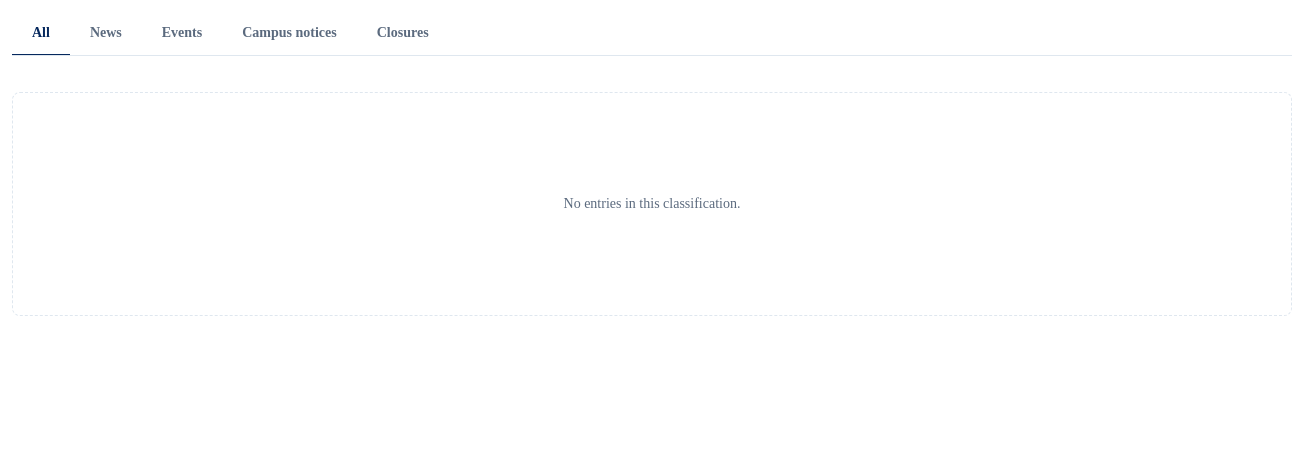
News & Events Tabs › retains independent loaded progress for each tab
Click the tab "News". click: {"x": 106, "y": 34}
box: [70,12,142,56]
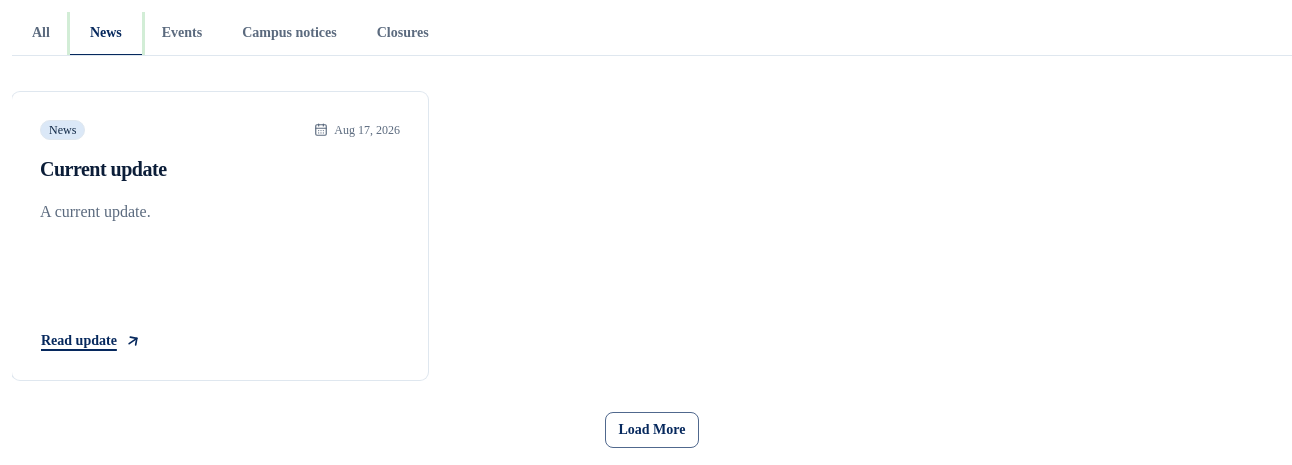
Click the button "Load More". click: {"x": 652, "y": 430}
box: [606,412,698,448]
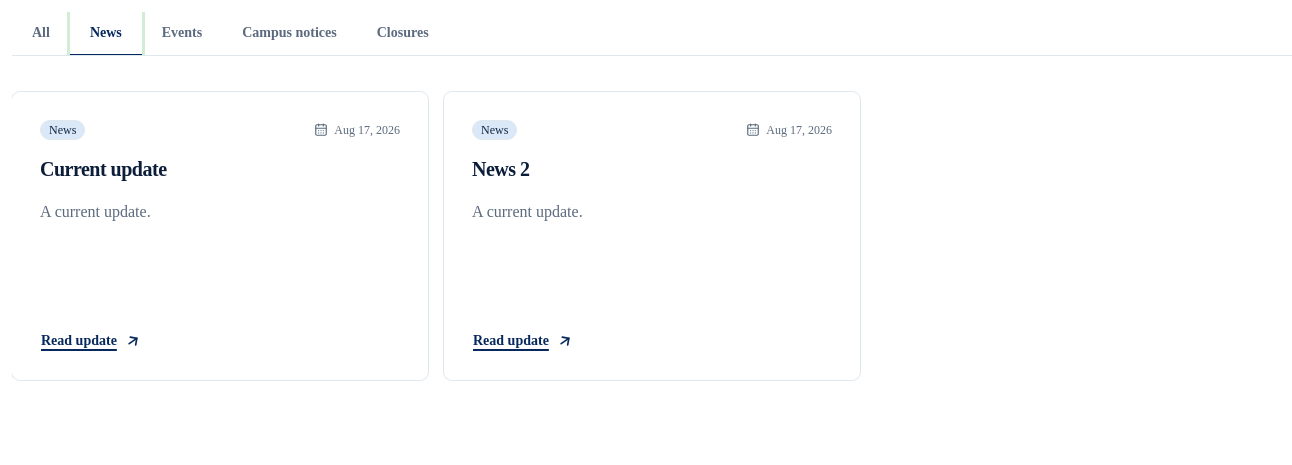
expect the heading "News 2" is shown: met, box [472,158,530,180]
Click the tab "Events". click: {"x": 182, "y": 34}
box: [142,12,222,56]
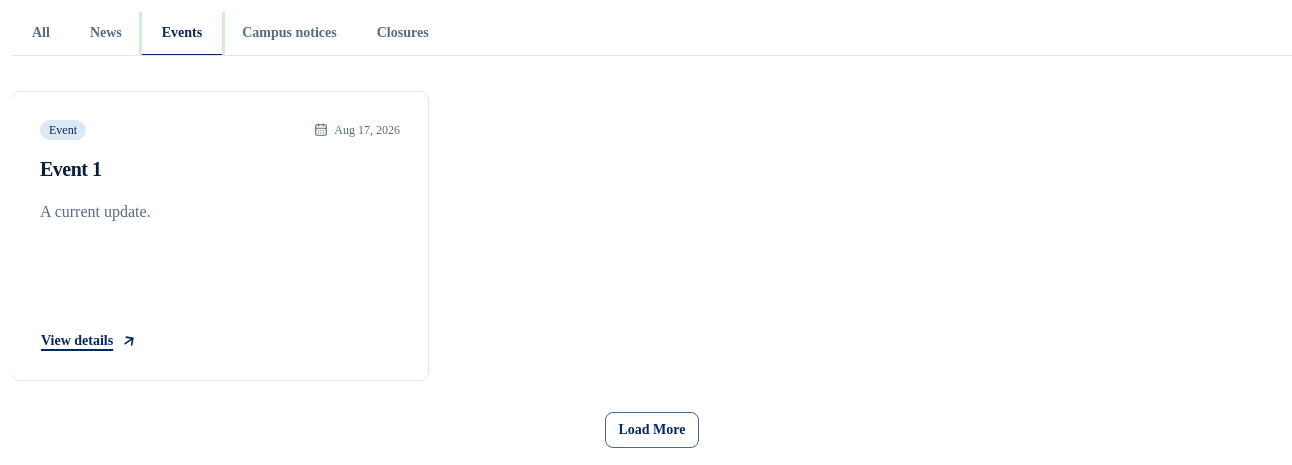
Click the button "Load More". click: {"x": 652, "y": 430}
box: [606,412,698,448]
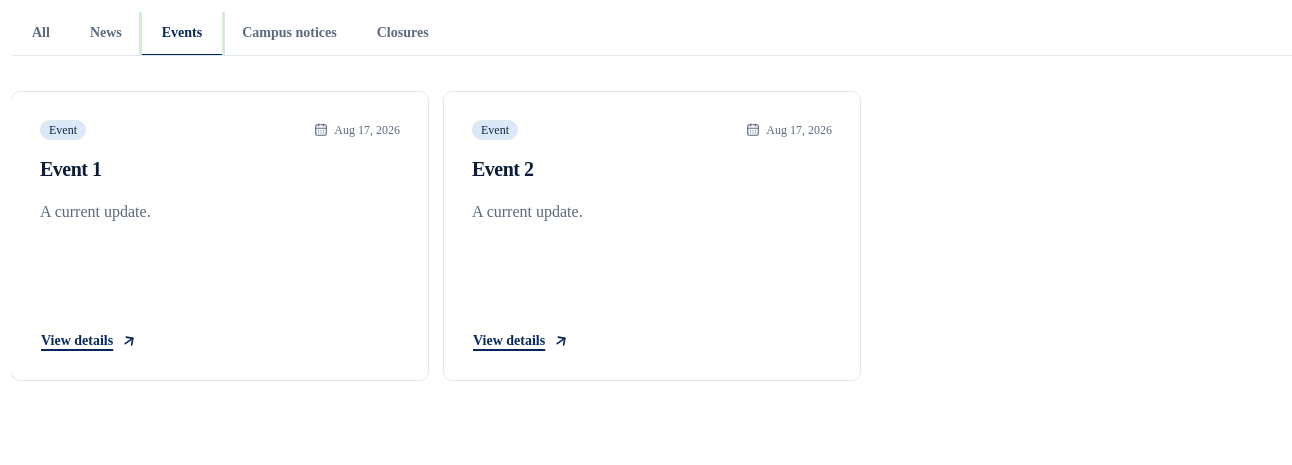
expect the heading "Event 2" is shown: met, box [472,158,534,180]
Click the tab "News". click: {"x": 106, "y": 34}
box: [70,12,142,56]
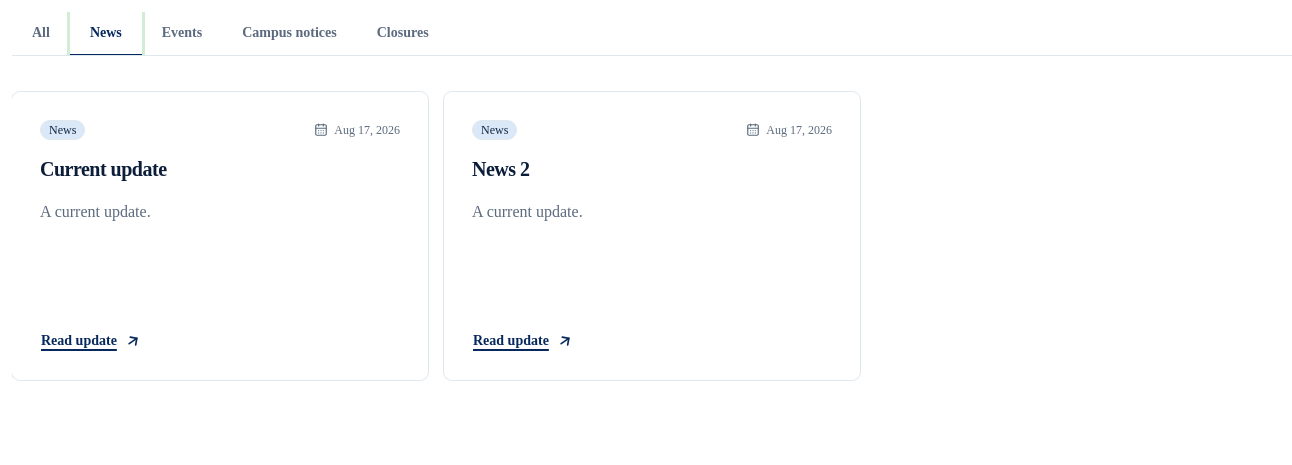
expect the heading "News 2" is shown: met, box [472,158,530,180]
